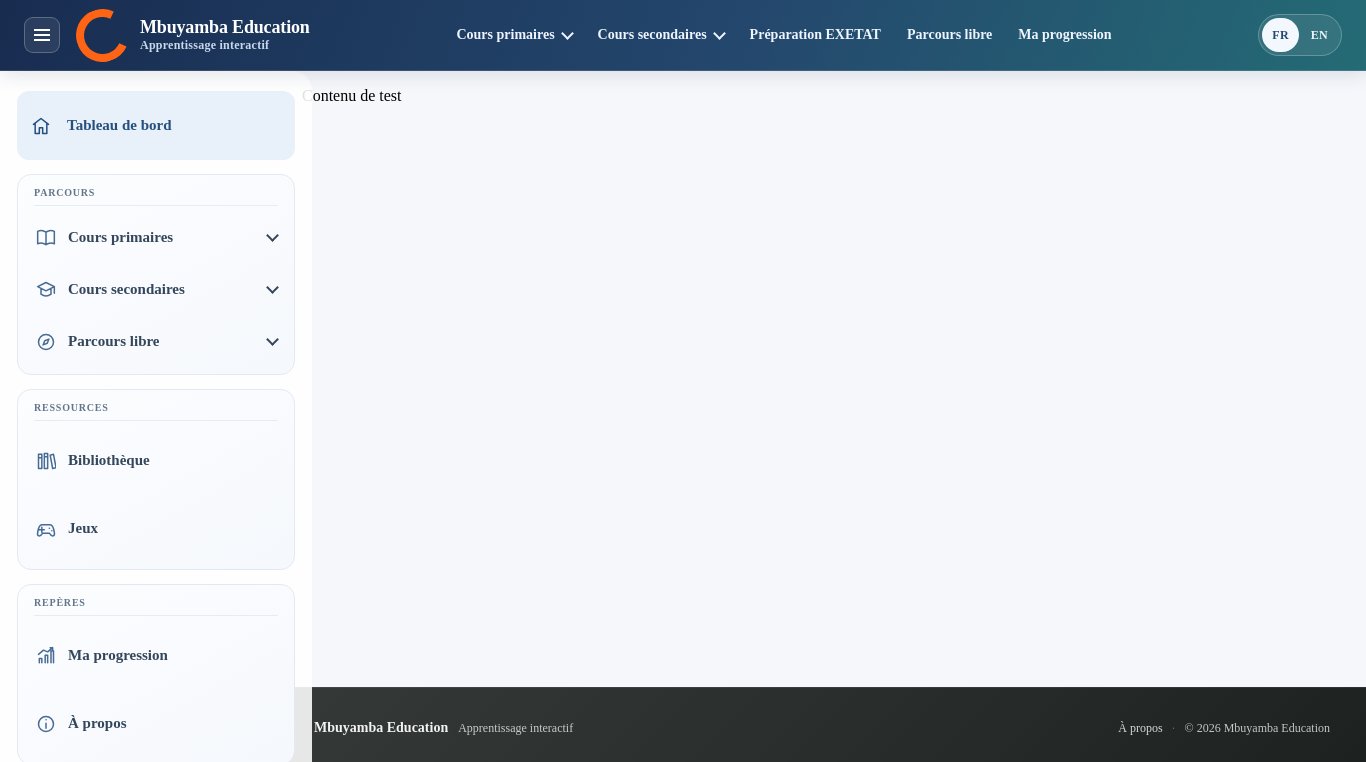
Test: Menu compact sur ordinateur › ouvre le choix de classe depuis l'icône du menu compact
Click the button titled "Réduire le menu": click(42, 35) [24, 17, 60, 53]
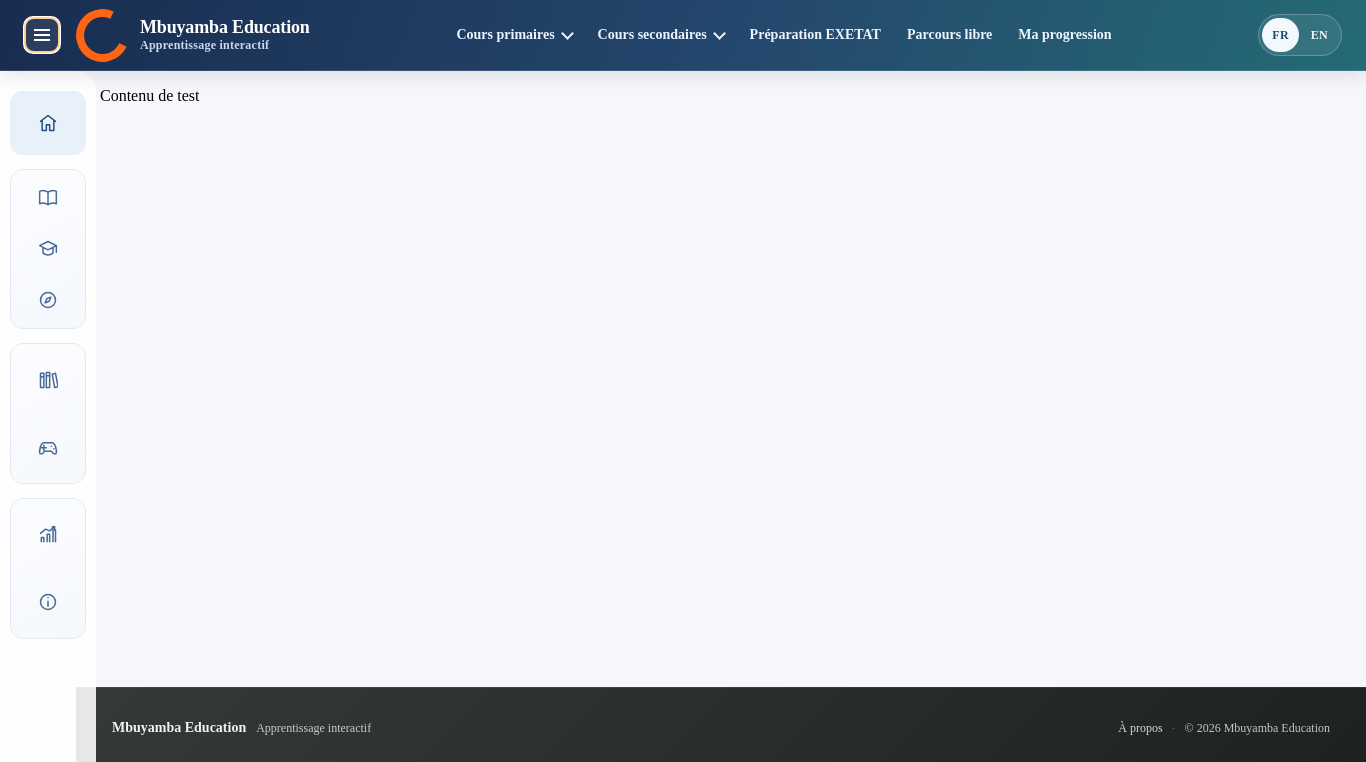
Expected: the link "1re primaire" is not shown
Click the button named "Niveaux du primaire": click(48, 198) [15, 174, 81, 222]
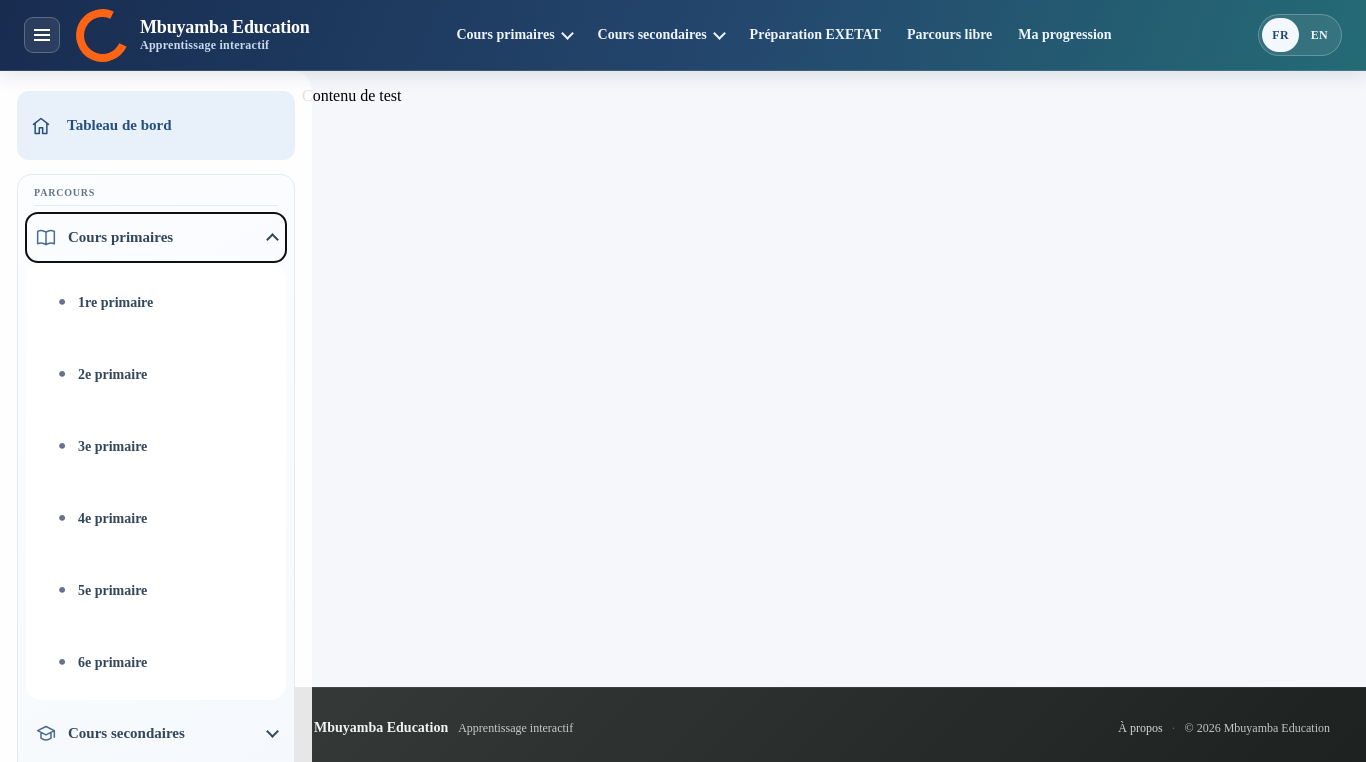
Expected: the button titled "Réduire le menu" is expanded, [24, 17, 60, 53]
Expected: the button with aria-label "Niveaux du primaire" is expanded, [26, 213, 286, 262]
